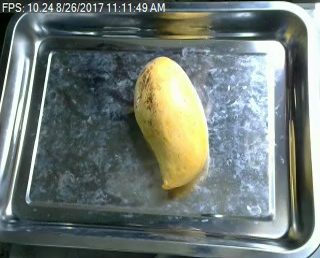Mango: (131, 56, 215, 192)
